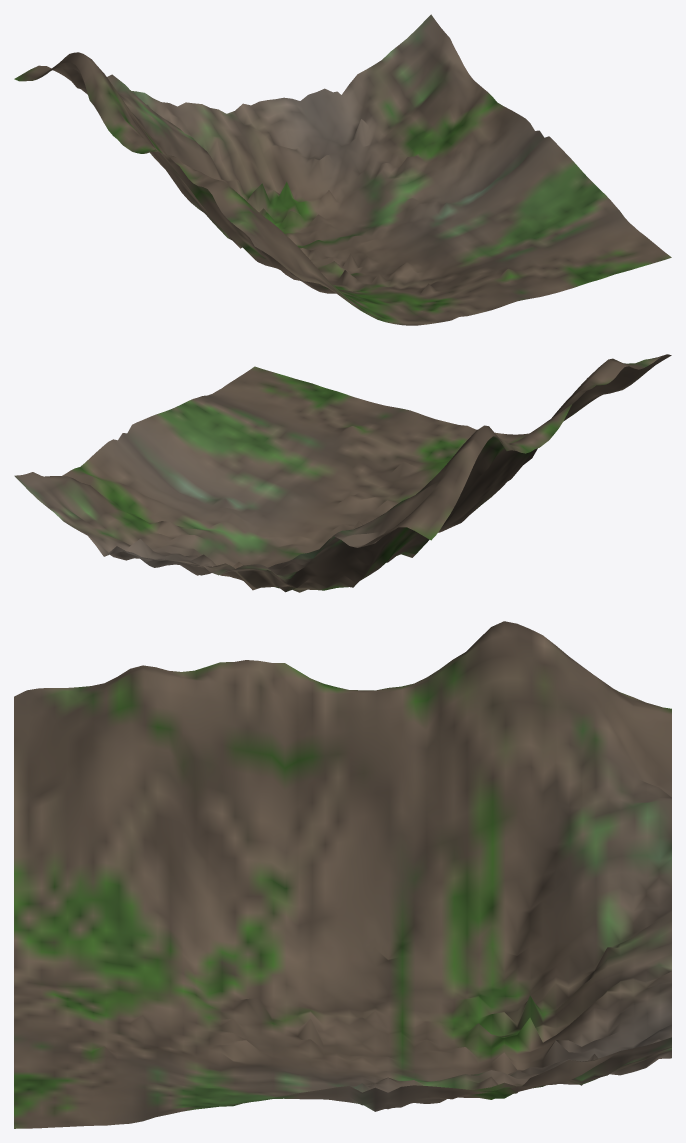
Rendered from chunk12-7_LOD0.obj.
3 renders of one model, top to bottom at view 1: azimuth 30°, elevation 25°; view 2: azimuth 150°, elevation 25°; view 3: azimuth 270°, elevation 25°, orthographic. The views are drawn at different scales.
Visible parts, largest first — view 1: chunk_12_7_LOD0; view 2: chunk_12_7_LOD0; view 3: chunk_12_7_LOD0.
Boxes of the visible parts, left/top/right/bottom form: chunk_12_7_LOD0: left=14, top=14, right=671, bottom=325; chunk_12_7_LOD0: left=14, top=354, right=671, bottom=592; chunk_12_7_LOD0: left=14, top=621, right=671, bottom=1128.
Bounding box in the file's own units: 1994 × 979 × 1994.
1 material, 1 textured.
